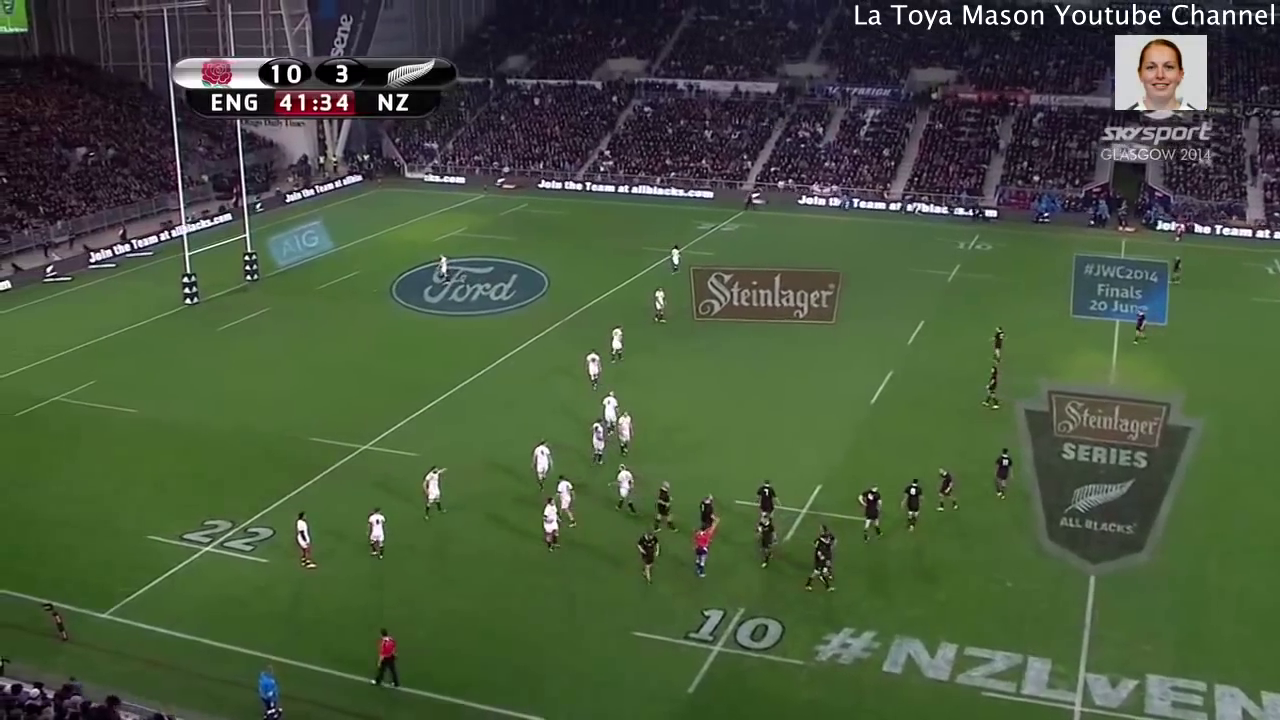10_metre: (622, 595, 813, 703), (734, 474, 891, 544), (906, 257, 999, 290), (933, 226, 1010, 255)
player: (850, 479, 891, 549), (681, 512, 722, 580), (893, 470, 931, 539), (412, 460, 451, 524), (746, 477, 789, 535), (361, 498, 395, 570), (611, 405, 646, 467), (533, 494, 568, 554), (289, 507, 320, 572), (522, 433, 556, 492), (988, 444, 1018, 509), (649, 476, 679, 540), (607, 458, 639, 516), (633, 528, 666, 584), (582, 412, 610, 475), (932, 462, 963, 516), (973, 364, 1007, 410), (986, 324, 1021, 367), (688, 486, 721, 529), (553, 472, 576, 533), (645, 281, 671, 330), (582, 344, 604, 395), (599, 383, 619, 439), (1129, 304, 1153, 349), (604, 320, 625, 368), (1164, 247, 1188, 289), (665, 241, 686, 280), (433, 248, 452, 290)
post: (168, 119, 264, 312)
